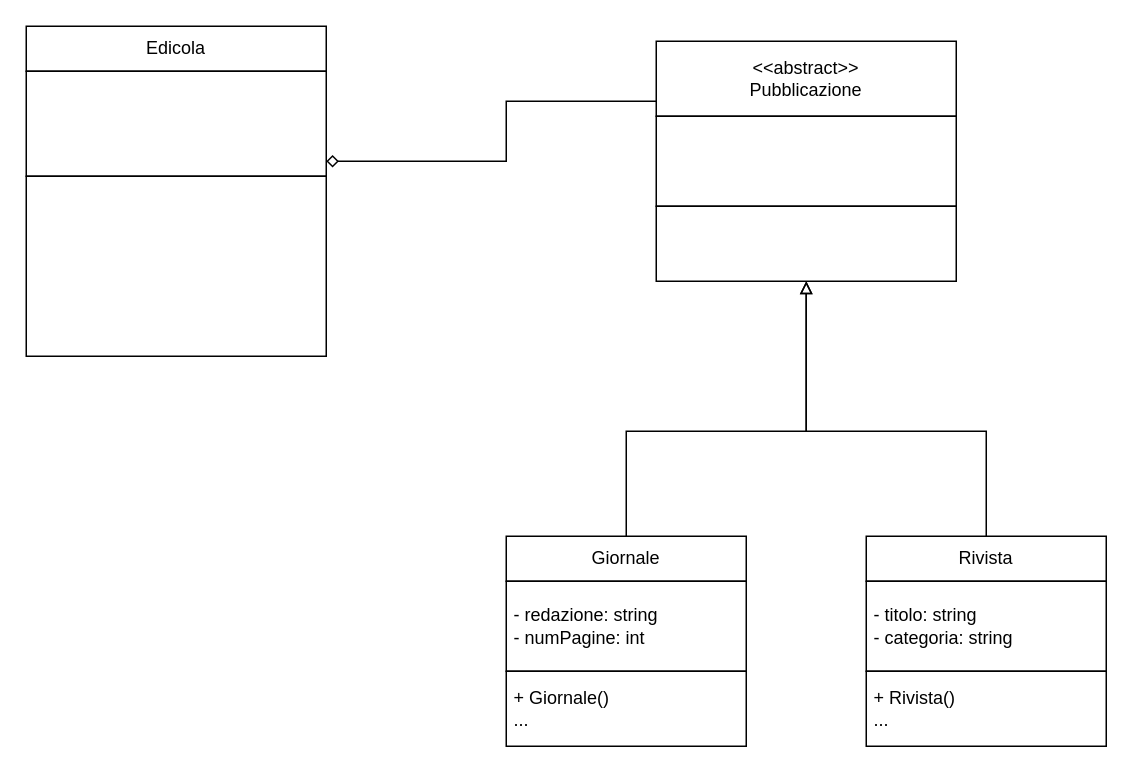
Image size: 1133x773. Some labels were removed from this diagram. The shapes that lost their labels are listed below. From the top down, each one's centre as x and y in pixels, then its label:
At point 175,123: "- nome: string - indirizzo: string - magazzino: [Pubblicazione]".
At point 805,160: "- prezzo: float - periodicita: string".
At point 805,243: "+ Pubblicazione() ...".
At point 175,265: "+ Edicola() ... + aggiungiPub + rimuoviPub + aggiornaDisp + visualizzaPub".
